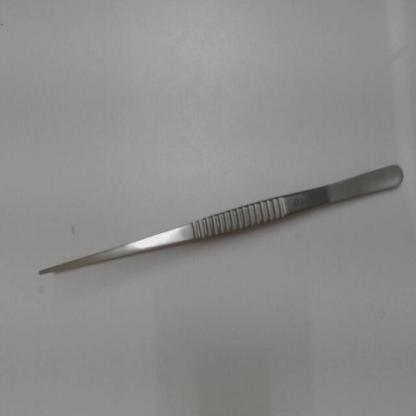DeBakey Dissector: (33, 152, 408, 297)
